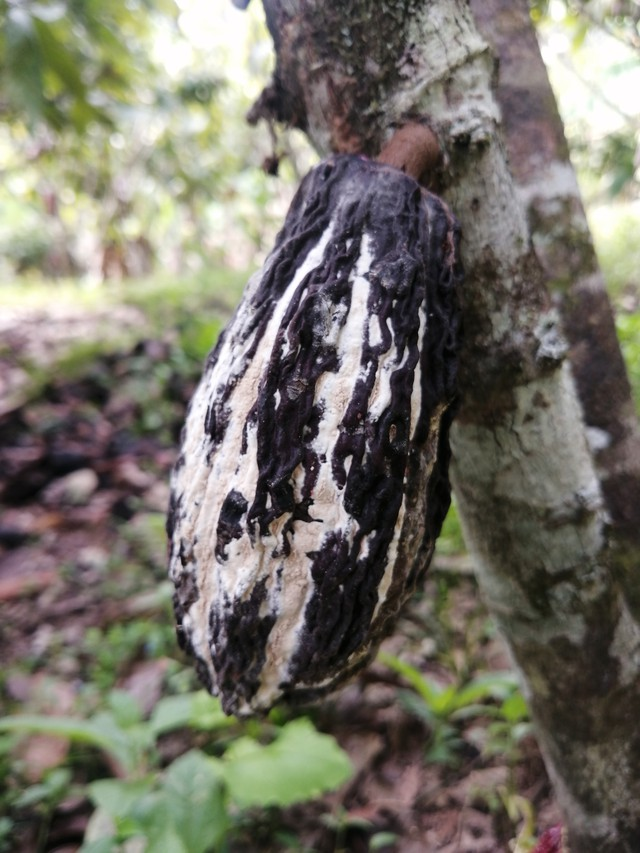moniliophthora roreri: (133, 136, 498, 734)
